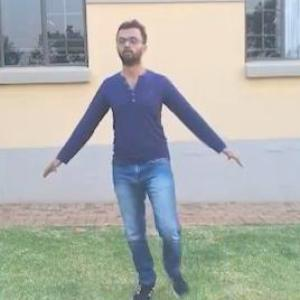land: (47, 10, 241, 297)
